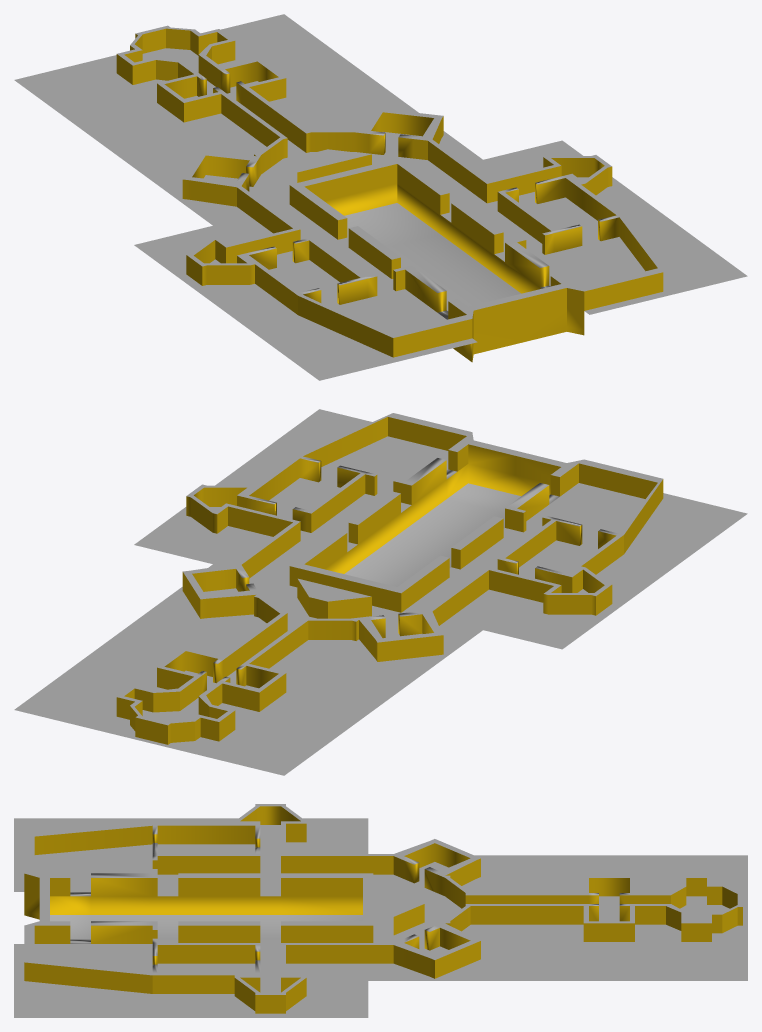
The model's file is model_playerShip_v1.fbx.
3 views of the same model, one above another, from view 1: azimuth 30°, elevation 25°; view 2: azimuth 150°, elevation 25°; view 3: azimuth 270°, elevation 25° (orthographic). The views are drawn at different scales.
Parts seen in each view (by area): view 1: pPlane4; view 2: pPlane4; view 3: pPlane4.
Part boxes in pixels (<box>): pPlane4: <box>14,14,747,380</box>; pPlane4: <box>14,409,747,775</box>; pPlane4: <box>14,804,747,1017</box>.
Bounding box in the file's own units: 46 × 4.5 × 71.5.
